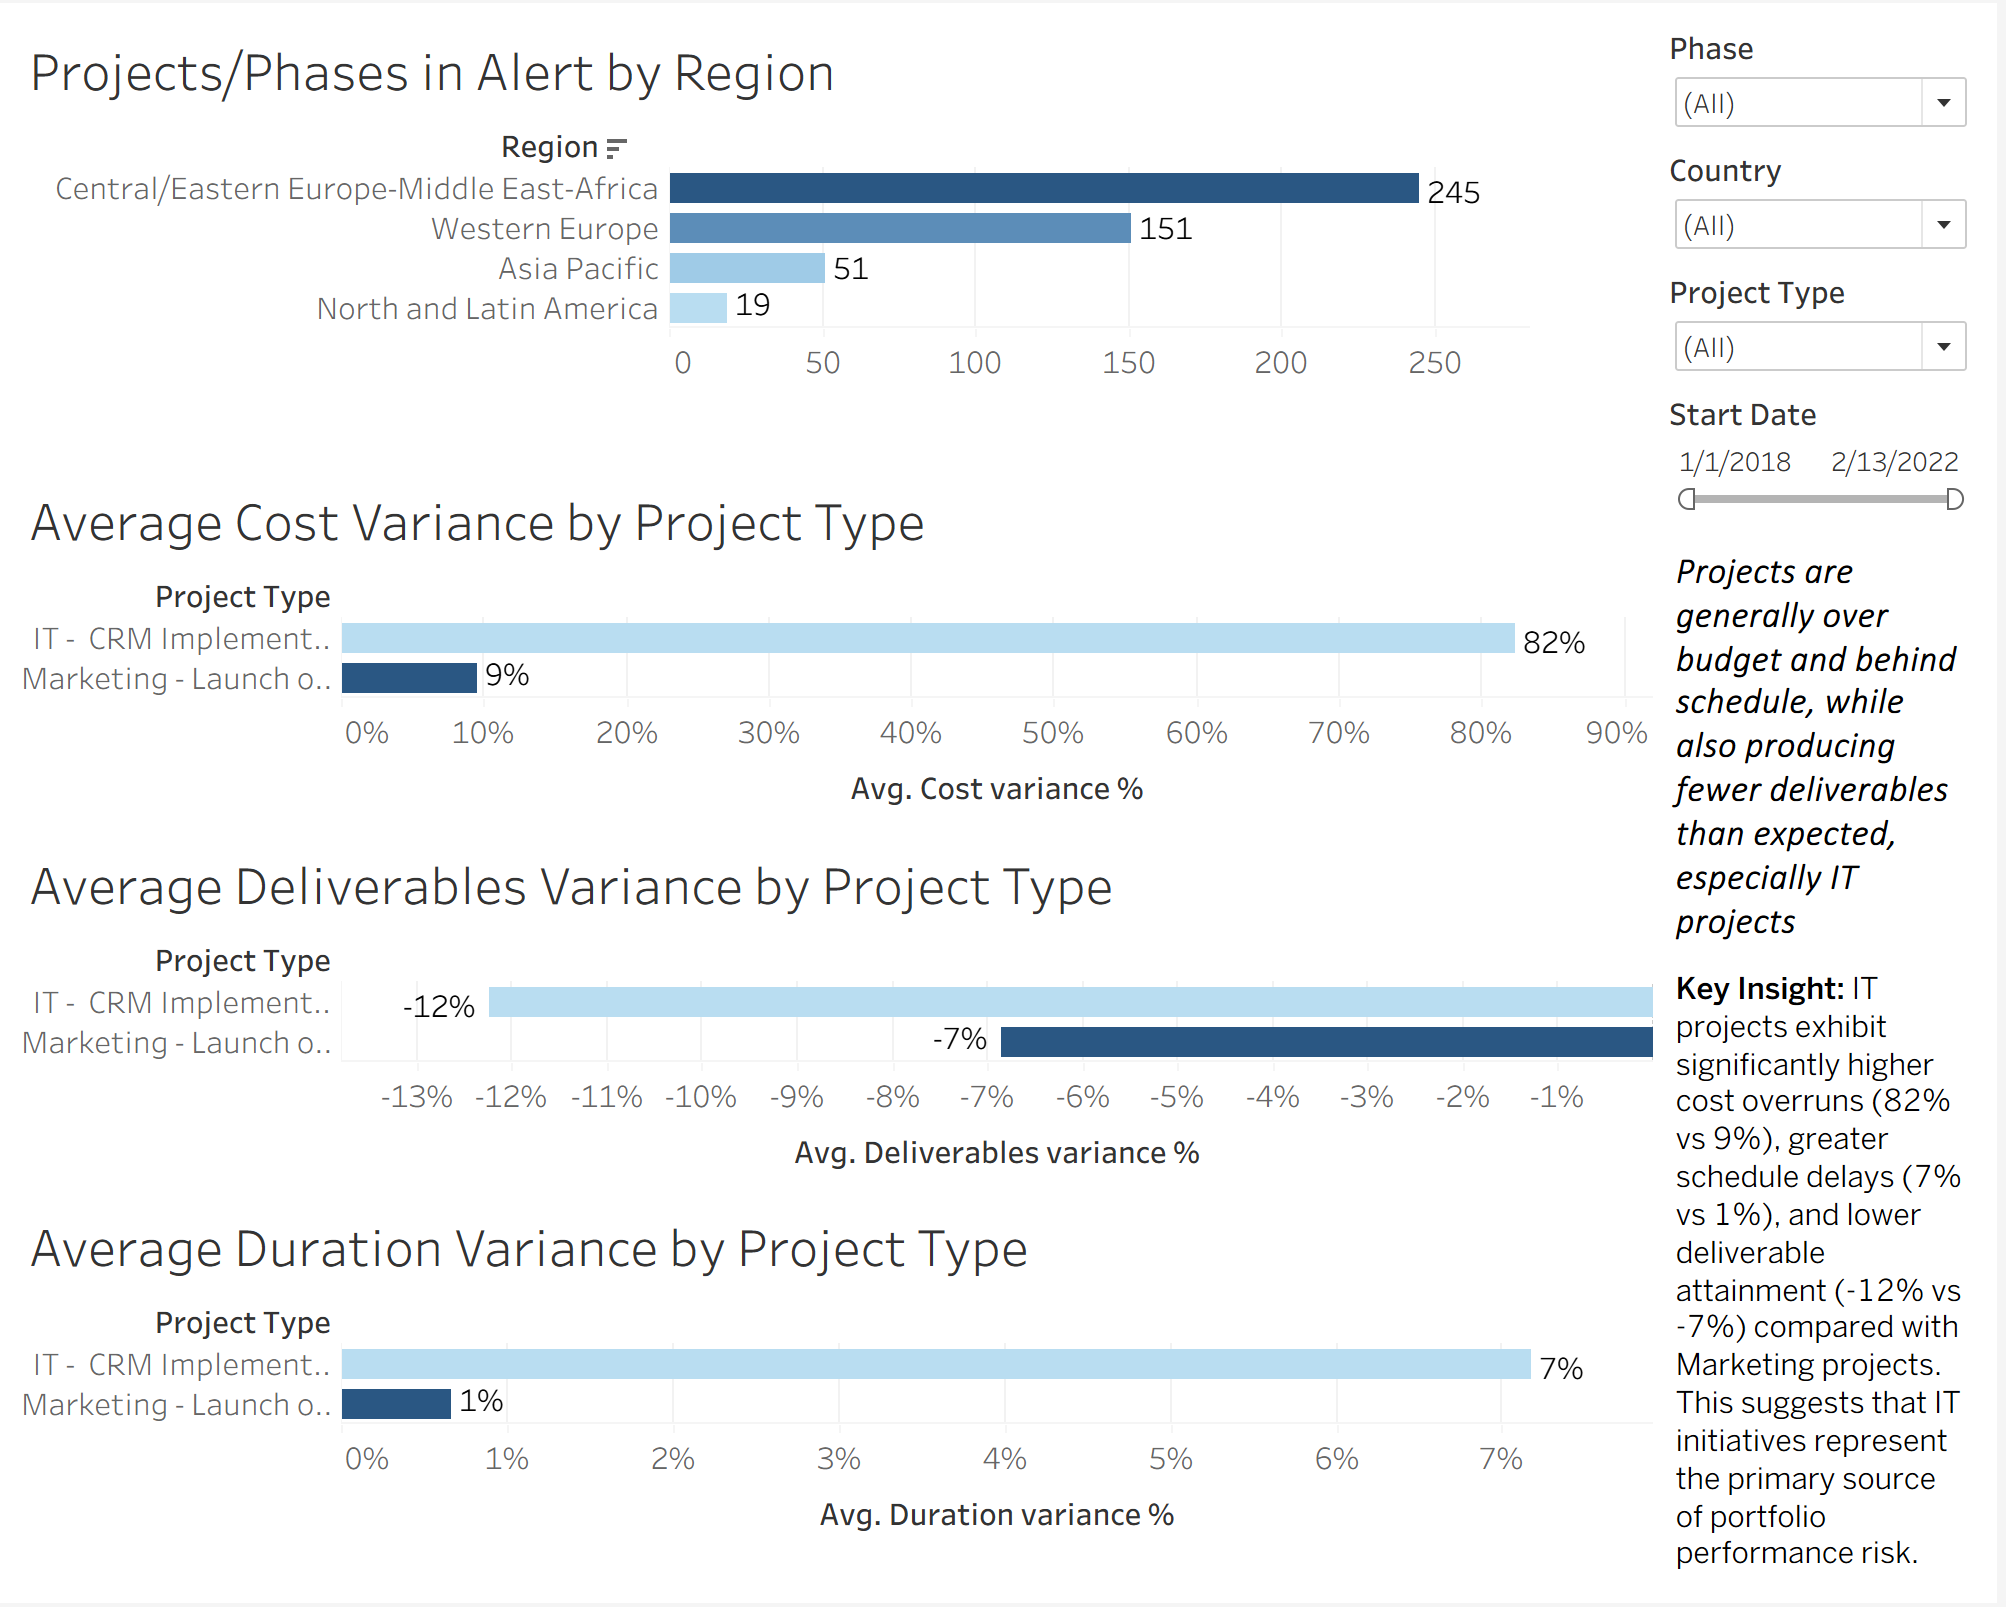

This screenshot's page, from the dashboard's own definition file:
{"tool":"tableau","page":{"name":"Project Performance Analysis","canvas":[1000,800],"ordinal":2},"visuals":[{"type":"worksheet","title":"Projects/Phases in Alert by Region","mark":"Bar","rows":["Region"],"cols":["Calculation_4064355571425291"],"box":[8,8,824,225]},{"type":"filter","title":"Projects/Phases in Alert by Region","param":"[federated.1jhwhhq11yij8e1dcoscd0796l0g].[none:Phase:nk]","box":[832,8,160,61]},{"type":"filter","title":"Projects/Phases in Alert by Region","param":"[federated.1jhwhhq11yij8e1dcoscd0796l0g].[none:Country:nk]","box":[832,69,160,61]},{"type":"filter","title":"Projects/Phases in Alert by Region","param":"[federated.1jhwhhq11yij8e1dcoscd0796l0g].[none:Project Type:nk]","box":[832,130,160,61]},{"type":"filter","title":"Projects/Phases in Alert by Region","param":"[federated.1jhwhhq11yij8e1dcoscd0796l0g].[none:Start Date:qk]","box":[832,191,160,73]},{"type":"worksheet","title":"Average Cost Variance by Project Type","mark":"Bar","rows":["Project Type"],"cols":["Calculation_4064355544346624"],"box":[8,233,824,182]},{"type":"text","box":[832,264,160,215]},{"type":"worksheet","title":"Average Deliverables Variance by Project Type","mark":"Bar","rows":["Project Type"],"cols":["Calculation_4064355544629250"],"box":[8,415,824,181]},{"type":"text","box":[832,479,160,312]},{"type":"worksheet","title":"Average Duration Variance by Project Type","mark":"Bar","rows":["Project Type"],"cols":["Calculation_4064355544530945"],"box":[8,596,824,196]}]}

Visuals, with their boxes in screenshot pixels (x1, y1, x2, y2), scaled from the page's 1000x800 canvas onto the 2006x1607 screenshot:
"Projects/Phases in Alert by Region" worksheet (Bar marks): {"x1": 16, "y1": 16, "x2": 1669, "y2": 468}
"Projects/Phases in Alert by Region" filter: {"x1": 1669, "y1": 16, "x2": 1990, "y2": 139}
"Projects/Phases in Alert by Region" filter: {"x1": 1669, "y1": 139, "x2": 1990, "y2": 261}
"Projects/Phases in Alert by Region" filter: {"x1": 1669, "y1": 261, "x2": 1990, "y2": 384}
"Projects/Phases in Alert by Region" filter: {"x1": 1669, "y1": 384, "x2": 1990, "y2": 530}
"Average Cost Variance by Project Type" worksheet (Bar marks): {"x1": 16, "y1": 468, "x2": 1669, "y2": 834}
text: {"x1": 1669, "y1": 530, "x2": 1990, "y2": 962}
"Average Deliverables Variance by Project Type" worksheet (Bar marks): {"x1": 16, "y1": 834, "x2": 1669, "y2": 1197}
text: {"x1": 1669, "y1": 962, "x2": 1990, "y2": 1589}
"Average Duration Variance by Project Type" worksheet (Bar marks): {"x1": 16, "y1": 1197, "x2": 1669, "y2": 1591}
